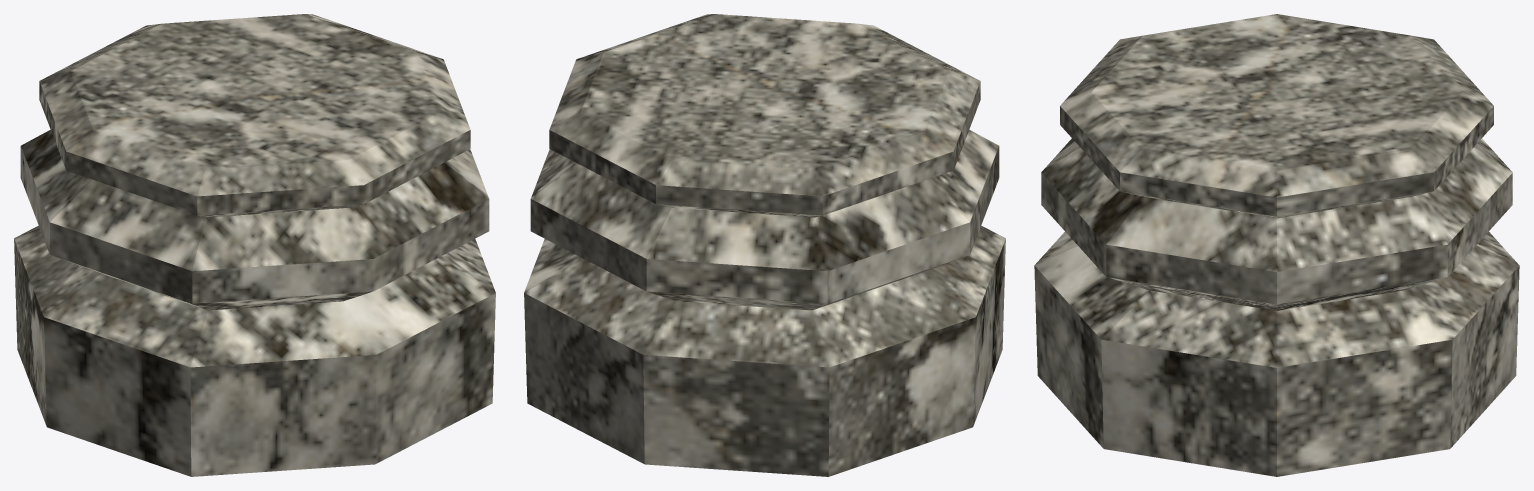
Rendered from pillarfoot.fbx.
3 renders of one model, left to right at view 1: azimuth 30°, elevation 25°; view 2: azimuth 150°, elevation 25°; view 3: azimuth 270°, elevation 25°, orthographic.
Visible parts, largest first — view 1: Cube; view 2: Cube; view 3: Cube.
Part boxes in pixels (x1,y1,x2,y2): Cube: [14, 14, 495, 476]; Cube: [524, 14, 1005, 476]; Cube: [1034, 14, 1519, 476].
Bounding box in the file's own units: 71.67 × 46.2 × 71.67.
Materials: 1 (1 with a texture image).
